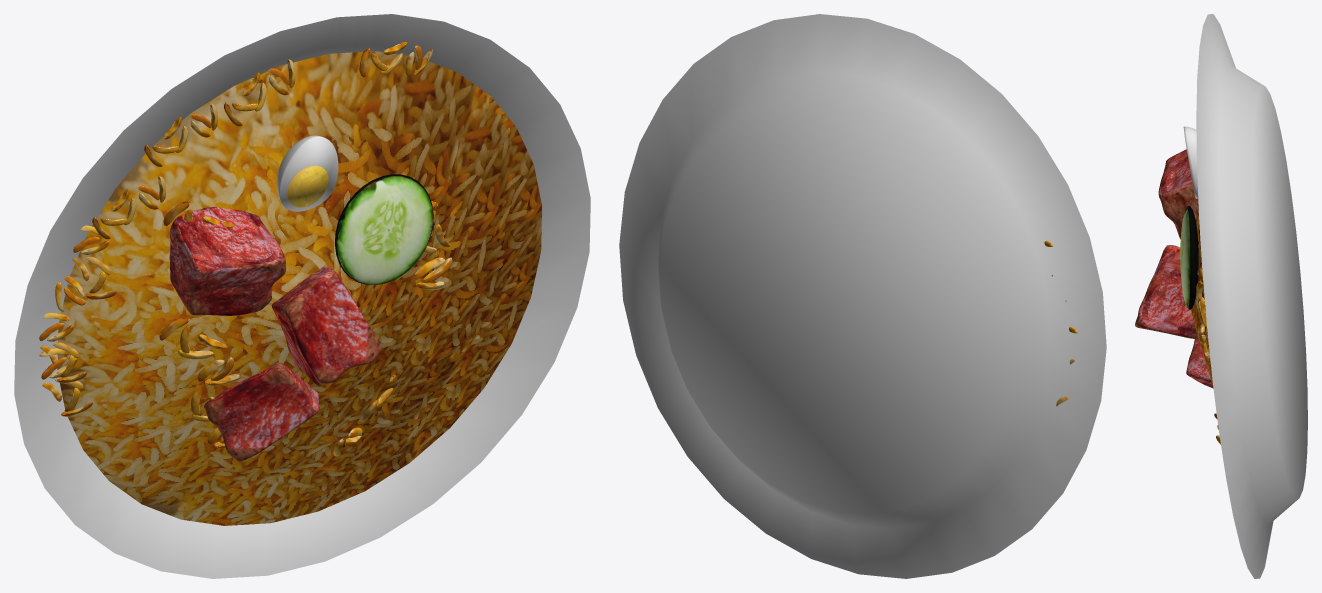
Rendered from smallbeefmandi-v5.glb.
3 renders of one model, left to right at view 1: azimuth 30°, elevation 25°; view 2: azimuth 150°, elevation 25°; view 3: azimuth 270°, elevation 25°, orthographic. The views are drawn at different scales.
Parts seen in each view (by area): view 1: Cone, Circle.001, Cube.003, Sphere.001, Cube.001, Cube.002, Sphere, Plane.025, Plane.011, Plane.012, Plane.005, Plane.009 (+5 smaller); view 2: Circle.001; view 3: Circle.001, Cube.001, Cube.003, Sphere.001, Cone, Cube.002, Sphere, Plane.029.
Boxes of the visible parts, left/top/right/bottom form: Cone: left=57, top=51, right=541, bottom=525; Circle.001: left=14, top=14, right=590, bottom=578; Cube.003: left=169, top=207, right=286, bottom=315; Sphere.001: left=334, top=174, right=433, bottom=284; Cube.001: left=271, top=265, right=381, bottom=385; Cube.002: left=204, top=363, right=319, bottom=461; Sphere: left=276, top=135, right=338, bottom=211; Plane.025: left=159, top=317, right=242, bottom=385; Plane.011: left=224, top=59, right=295, bottom=126; Plane.012: left=359, top=41, right=432, bottom=77; Plane.005: left=39, top=312, right=87, bottom=383; Plane.009: left=92, top=176, right=165, bottom=239; Circle.001: left=619, top=14, right=1106, bottom=578; Circle.001: left=1196, top=14, right=1307, bottom=578; Cube.001: left=1135, top=245, right=1198, bottom=339; Cube.003: left=1158, top=149, right=1198, bottom=239; Sphere.001: left=1180, top=206, right=1198, bottom=309; Cone: left=1191, top=206, right=1213, bottom=386; Cube.002: left=1186, top=339, right=1213, bottom=388; Sphere: left=1183, top=126, right=1198, bottom=198; Plane.029: left=1196, top=267, right=1209, bottom=359.
Size of the model in its own units: 8.73 by 8.68 by 2.66.
21 materials, 19 textured.
